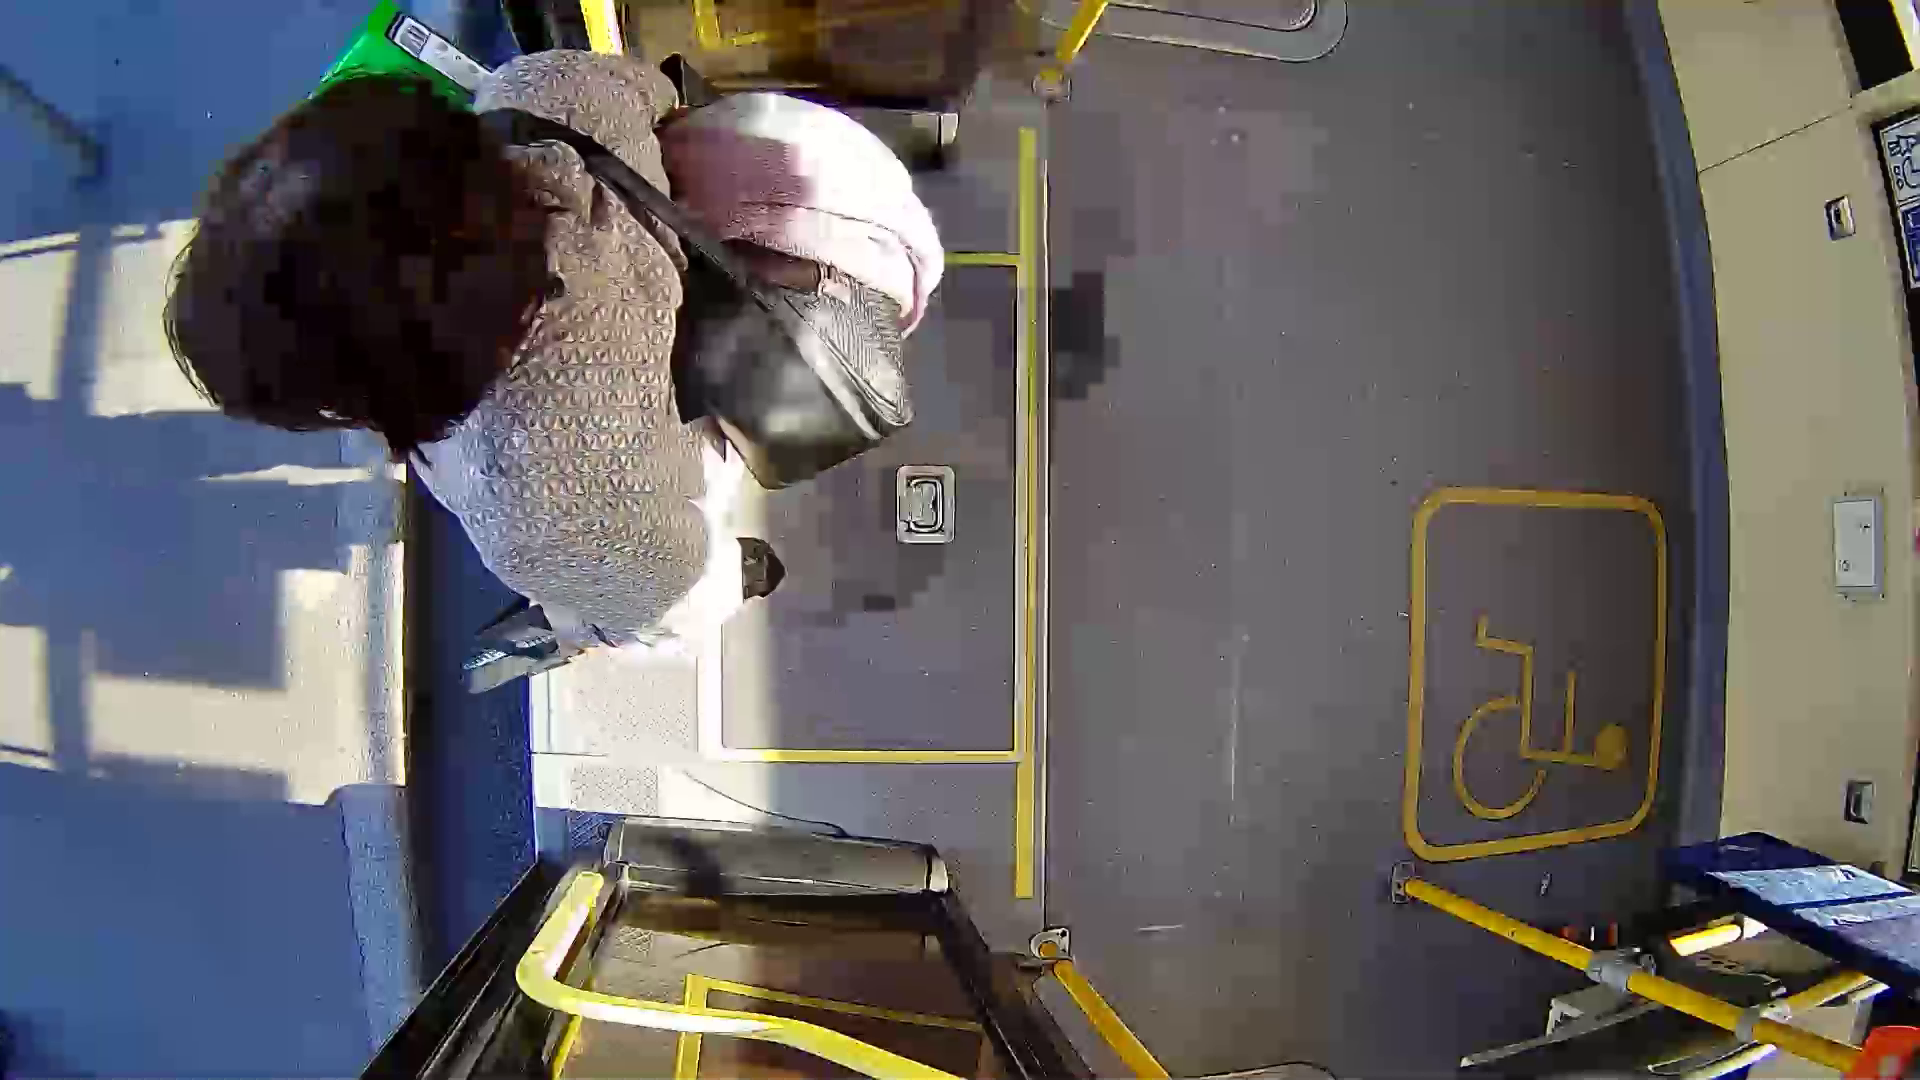person: (187, 42, 998, 688)
